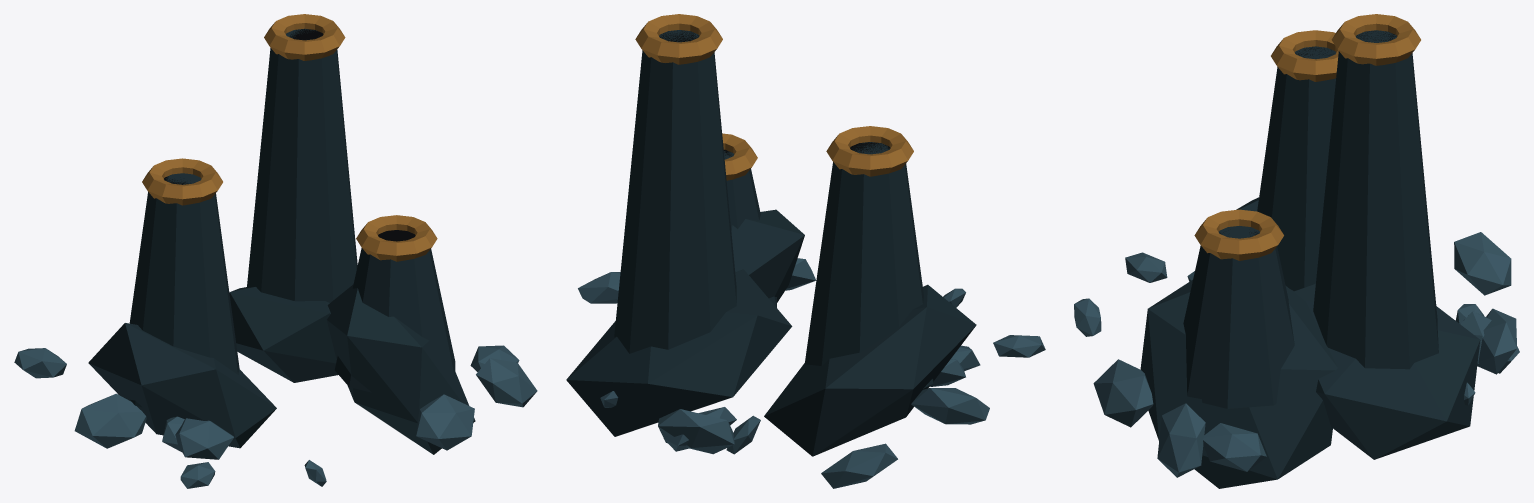
File: 06_hydrothermal_vents.obj
The picture shows the model from 3 angles, left to right: view 1: azimuth 30°, elevation 25°; view 2: azimuth 150°, elevation 25°; view 3: azimuth 270°, elevation 25°; orthographic projection. The views are drawn at different scales.
Parts seen in each view (by area): view 1: 06_hydrothermal_vents; view 2: 06_hydrothermal_vents; view 3: 06_hydrothermal_vents.
Boxes of the visible parts, x1=… form: 06_hydrothermal_vents: x1=14, y1=14, x2=537, y2=488; 06_hydrothermal_vents: x1=566, y1=14, x2=1045, y2=488; 06_hydrothermal_vents: x1=1074, y1=14, x2=1519, y2=488.
Size of the model in its own units: 6.78 by 6.21 by 5.86.
Materials: 1 (1 with a texture image).
